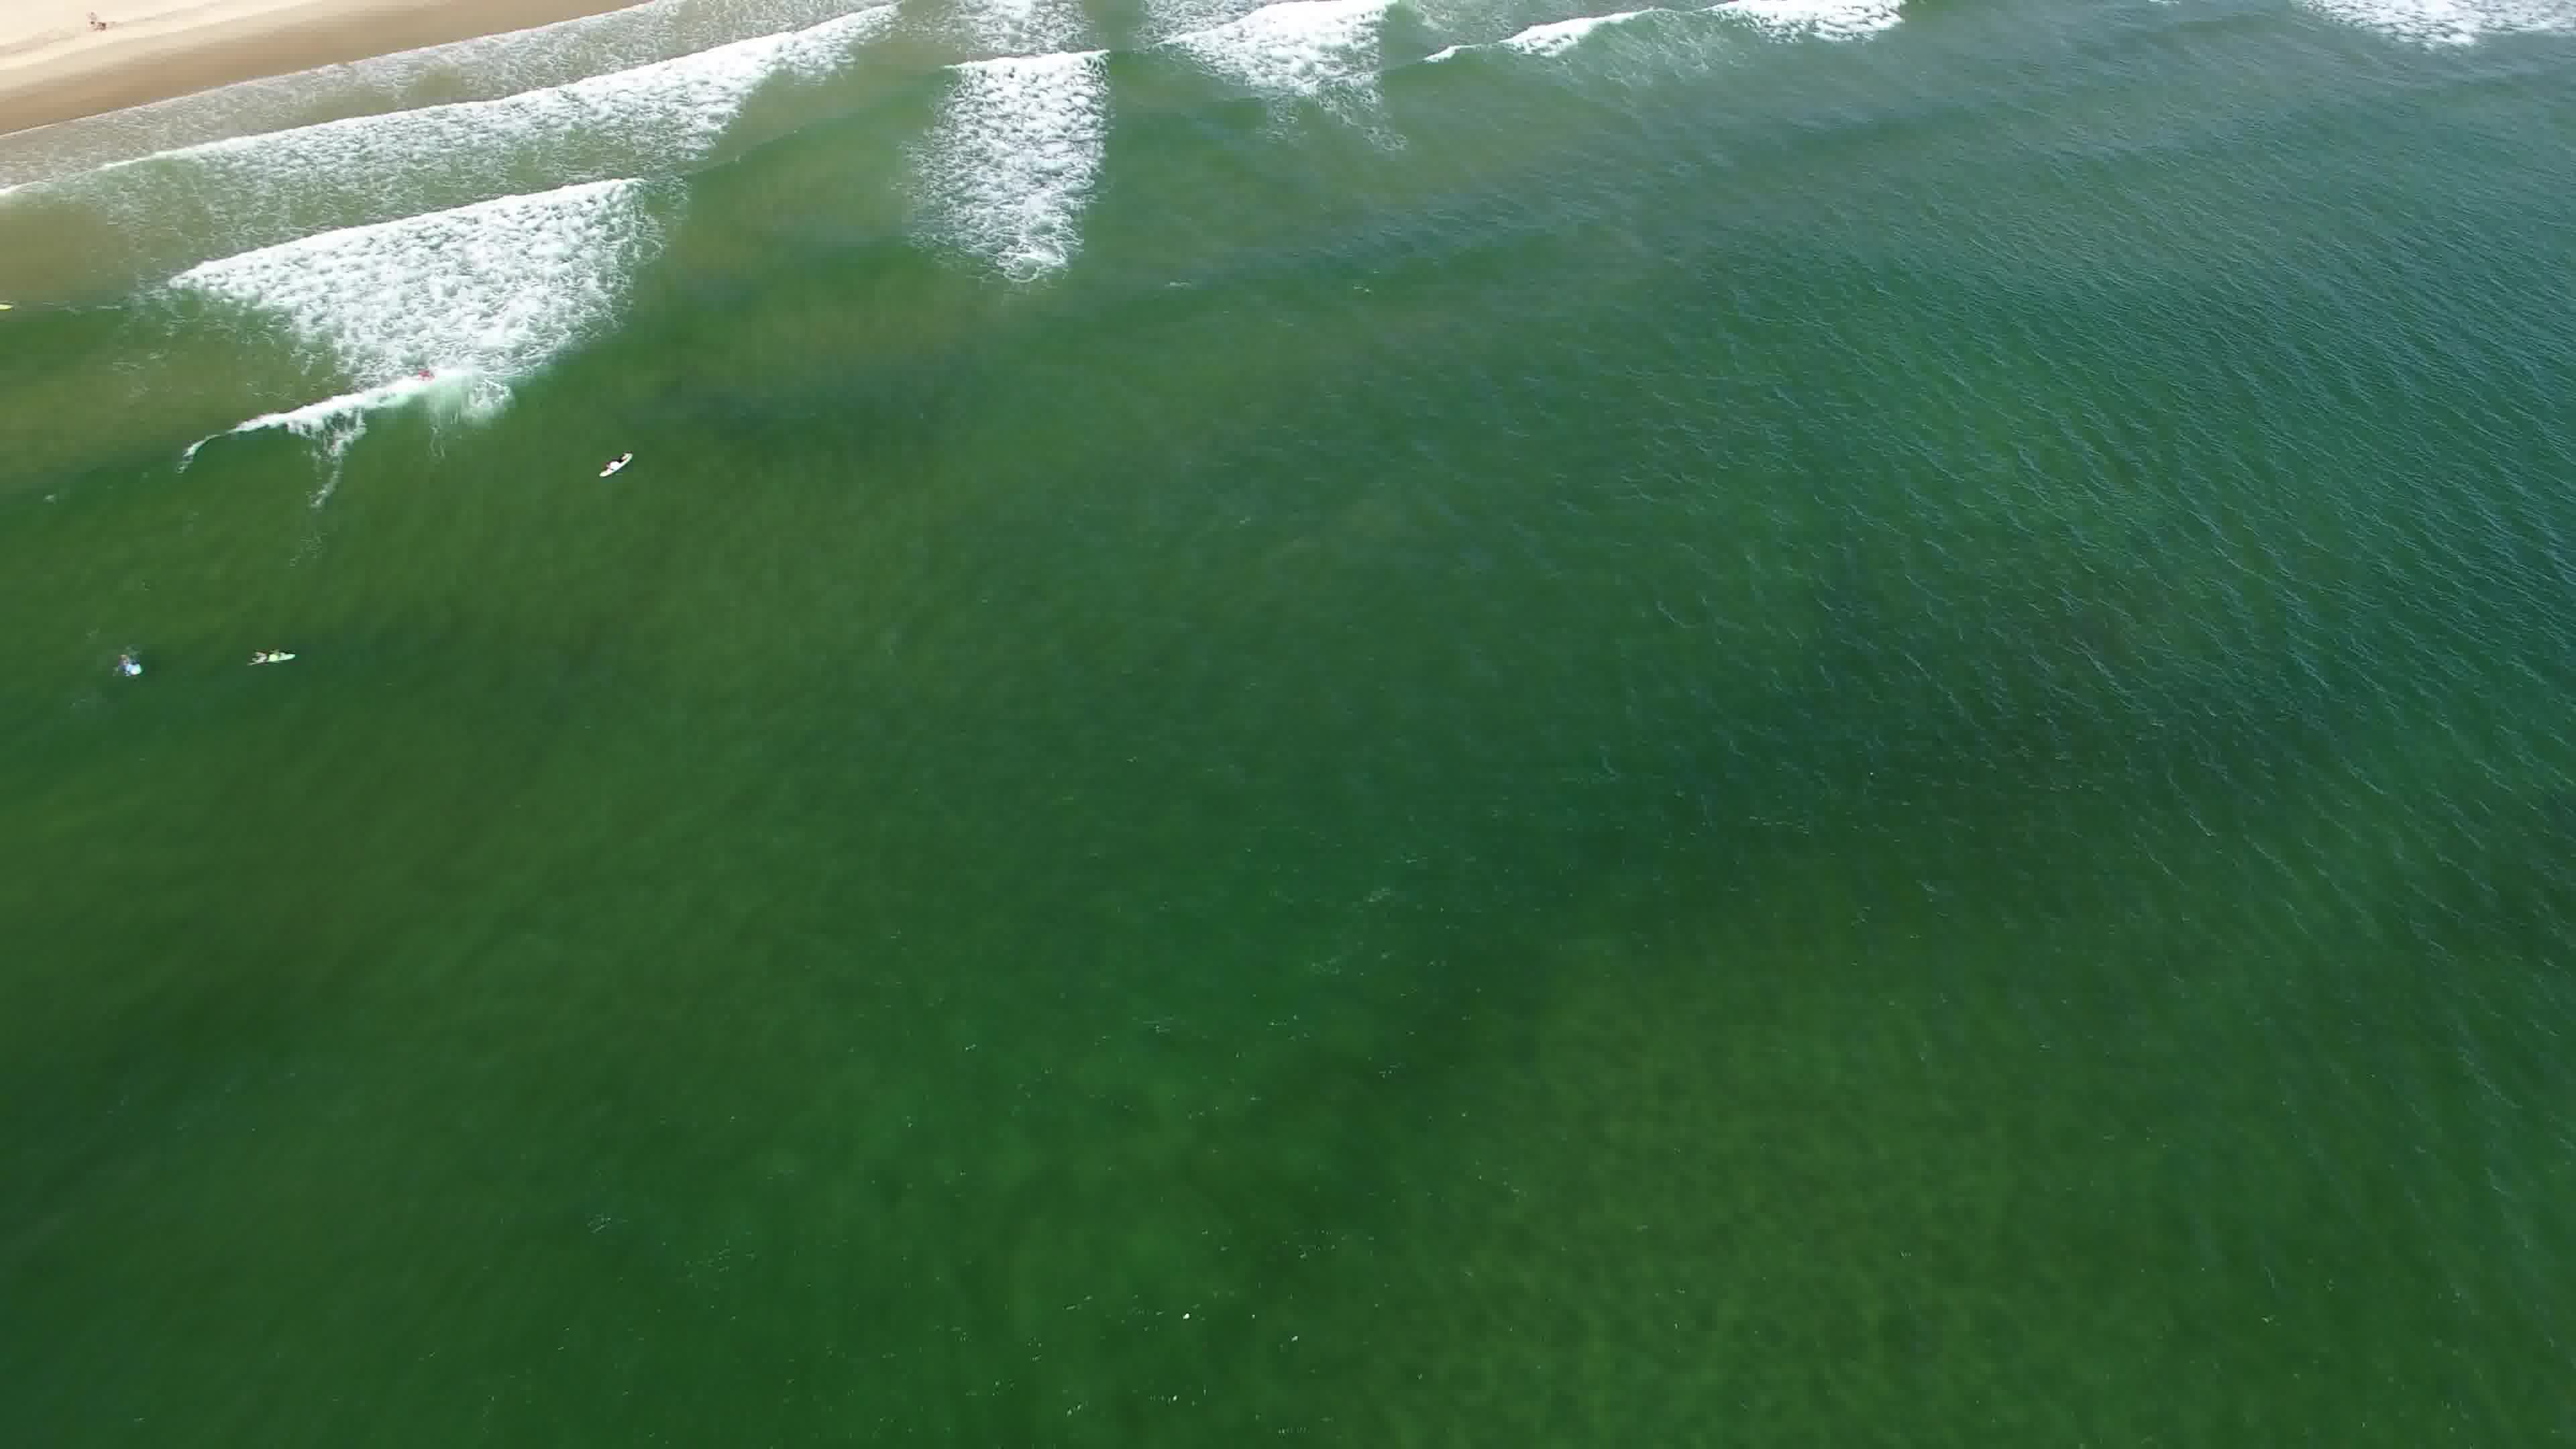surfer: (591, 444, 648, 485), (110, 646, 156, 685), (248, 639, 301, 672)
